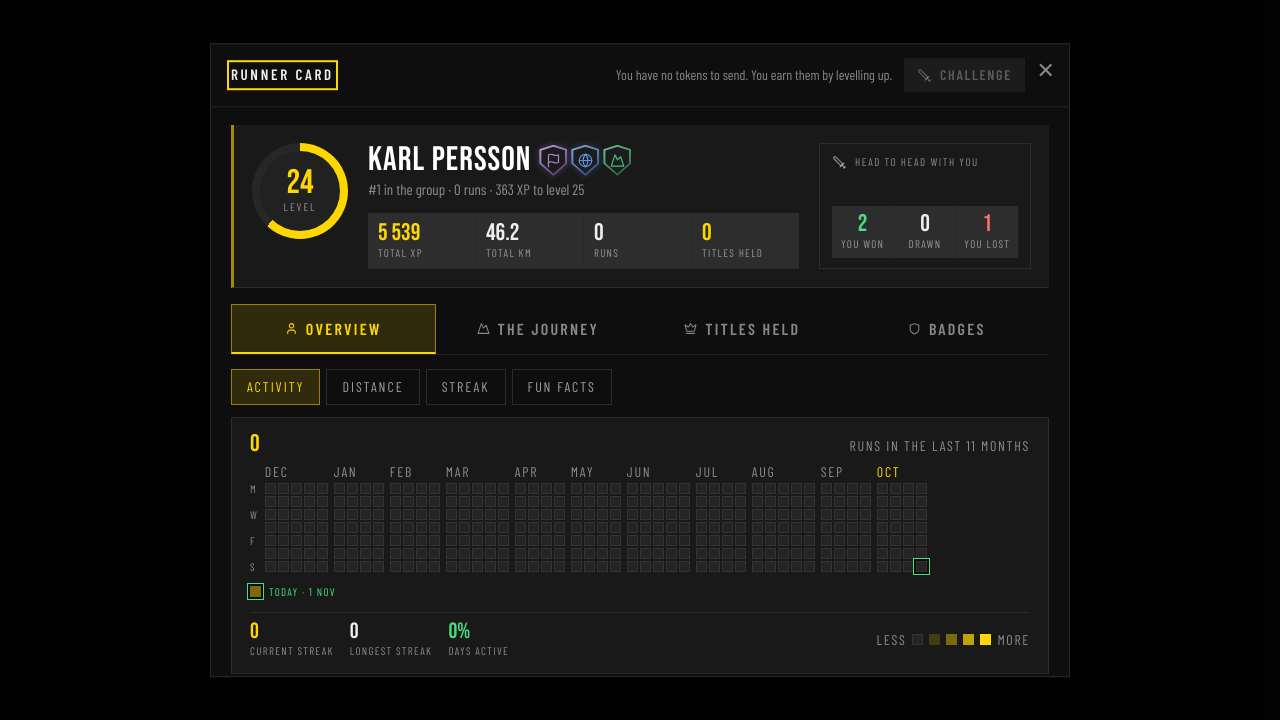
ordningen: .rq-runner__lower (T2) › popupen (desktop-dialogen): hjälte över flikarna, en panel i taget och Badges-panelen renderas en gång
Expected: the element named "Overview view" is shown, [231, 369, 612, 406]
Click the tab "Badges": (947, 329) [844, 304, 1049, 354]
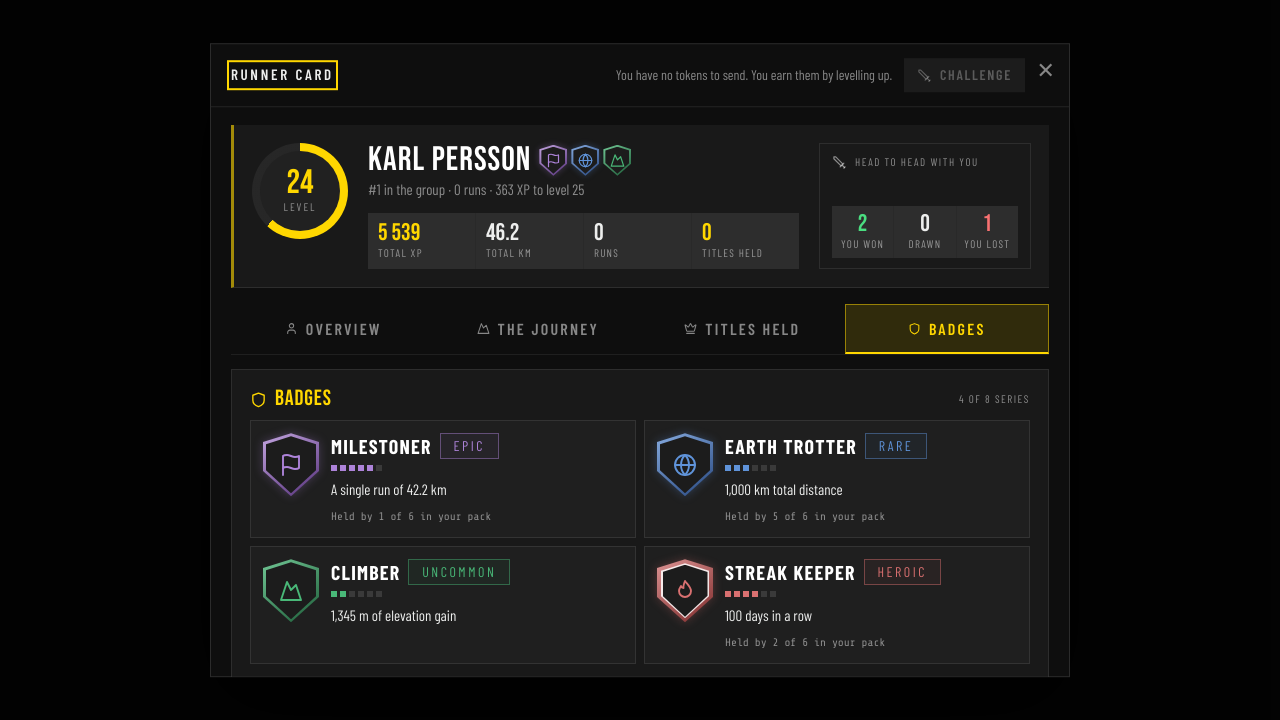
Expected: the list named "Earned badges" is shown, [250, 420, 1030, 664]
Expected: the number of elements "BADGES" is 1, [231, 369, 1049, 676]
Expected: the number of elements with class "rq-runner-badges" is 1, [231, 369, 1049, 676]
